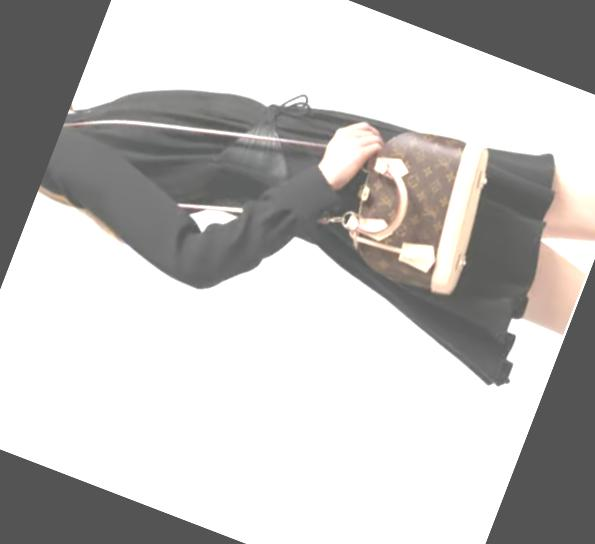LOUIS-VUITTON: (330, 107, 482, 288)
